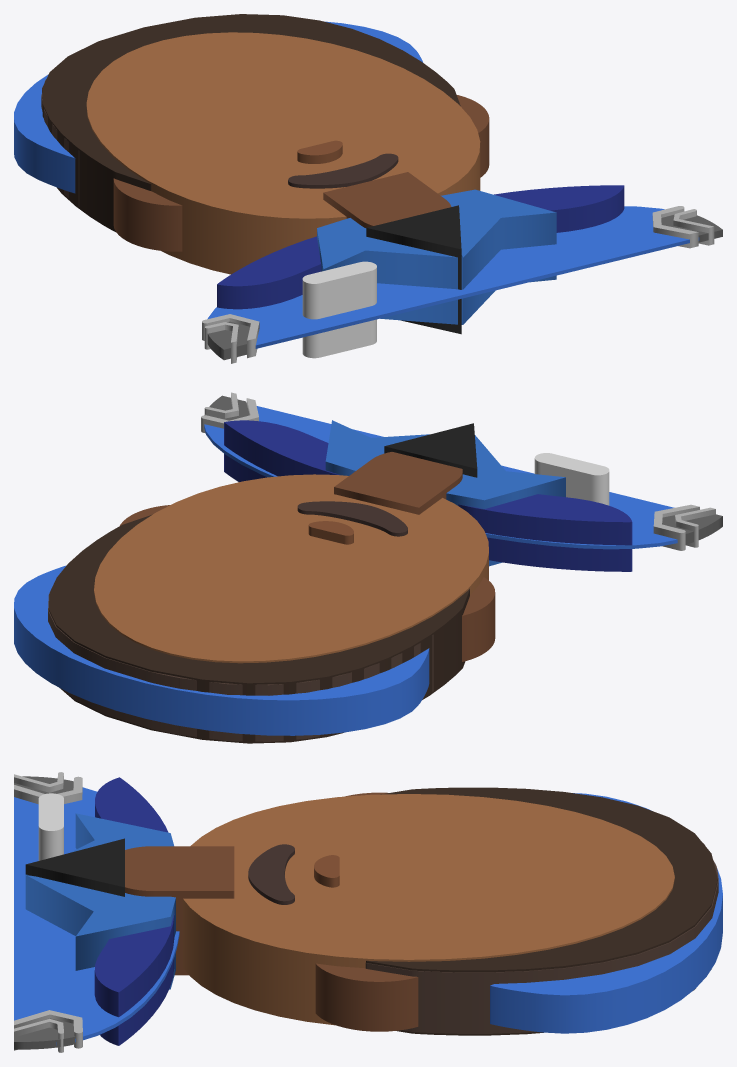
File: emoji_u1f46e_1f3fe_200d_2642.glb
3 renders of one model, top to bottom at view 1: azimuth 30°, elevation 25°; view 2: azimuth 150°, elevation 25°; view 3: azimuth 270°, elevation 25°, orthographic. The views are drawn at different scales.
Visible parts, largest first — view 1: emoji_u1f46e_1f3fe_200d_2642; view 2: emoji_u1f46e_1f3fe_200d_2642; view 3: emoji_u1f46e_1f3fe_200d_2642.
Part boxes in pixels (<box>): emoji_u1f46e_1f3fe_200d_2642: <box>14,14,722,363</box>; emoji_u1f46e_1f3fe_200d_2642: <box>14,392,722,743</box>; emoji_u1f46e_1f3fe_200d_2642: <box>14,772,722,1052</box>.
Size of the model in its own units: 0.0295 by 0.0048 by 0.0336.
